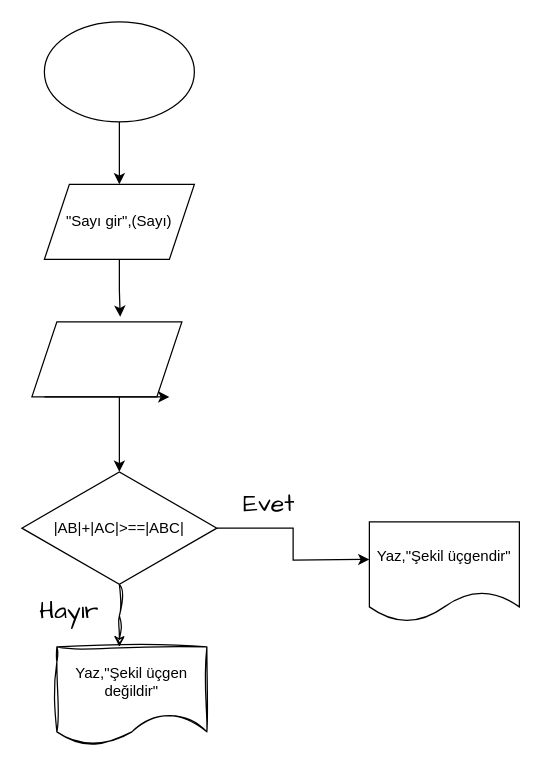
This 541x769 diagram has some shape labels left out. Here are the shapes that lost their labels. From the top down, the centre of each, then its label:
(118,71): Başla
(106,359): "Harf gir",(Harf)
